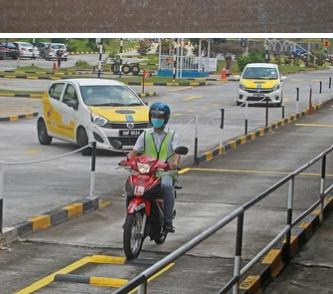front: (120, 155, 163, 263)
